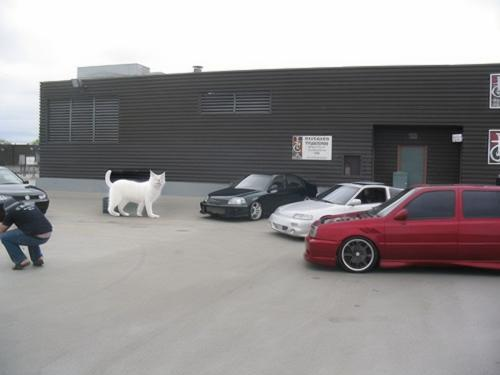car: (303, 185, 500, 274), (270, 181, 406, 241), (200, 173, 319, 222), (1, 167, 50, 219)
cat: (104, 170, 166, 216)
person: (1, 199, 54, 271)
person/foot: (12, 260, 30, 270), (34, 257, 46, 268)
person/head: (4, 200, 19, 212)
